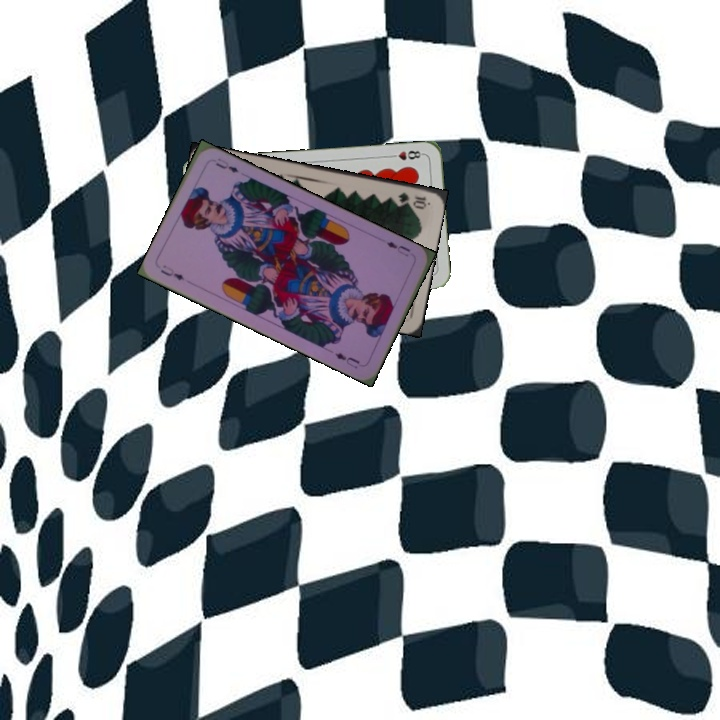EU: (156, 260, 187, 283), (381, 237, 413, 259)
G10: (394, 188, 429, 210)
H8: (385, 146, 426, 163)
